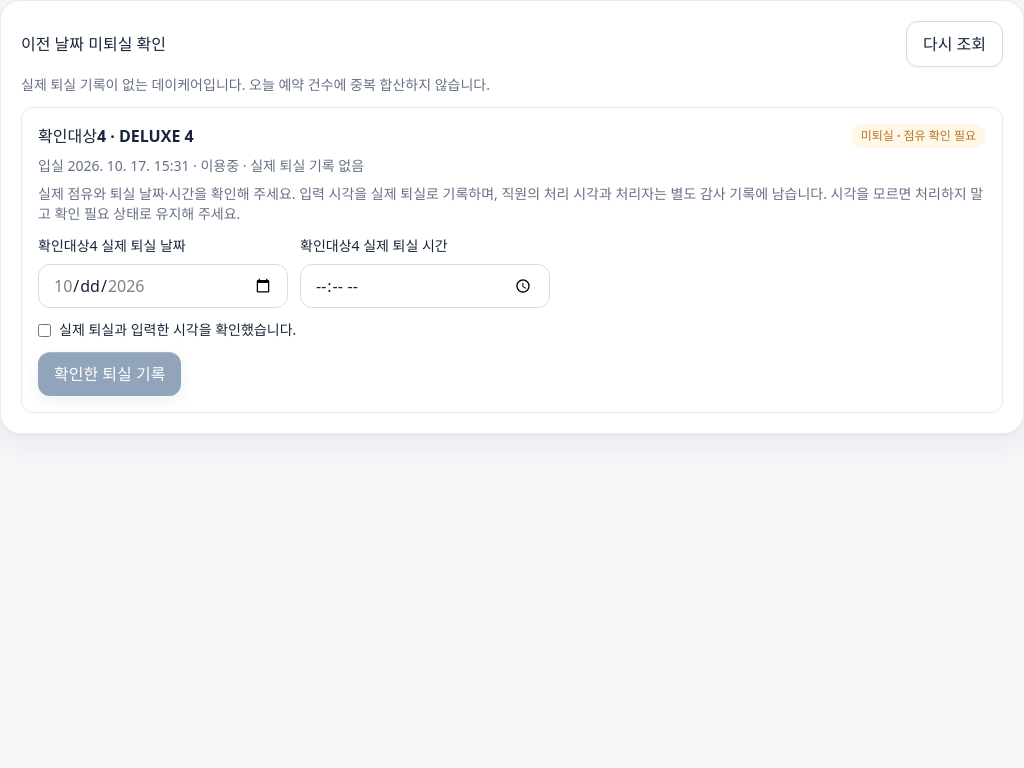
Scenario: editing either actual date or time requires a new explicit confirmation
Type "2026-10-18" into the date field labelled "확인대상4 실제 퇴실 날짜".
click(163, 286); type("2026-10-18")  # box 38,264 -> 288,308
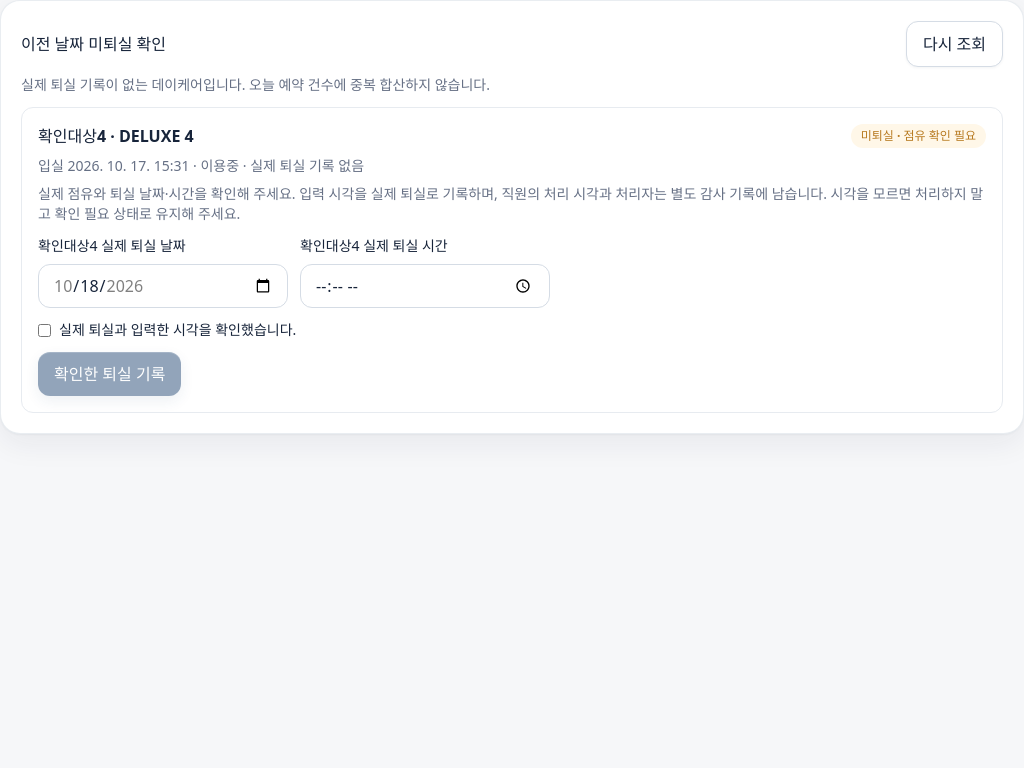
Type "17:00" into the time field labelled "확인대상4 실제 퇴실 시간".
click(425, 286); type("17:00")  # box 300,264 -> 550,308
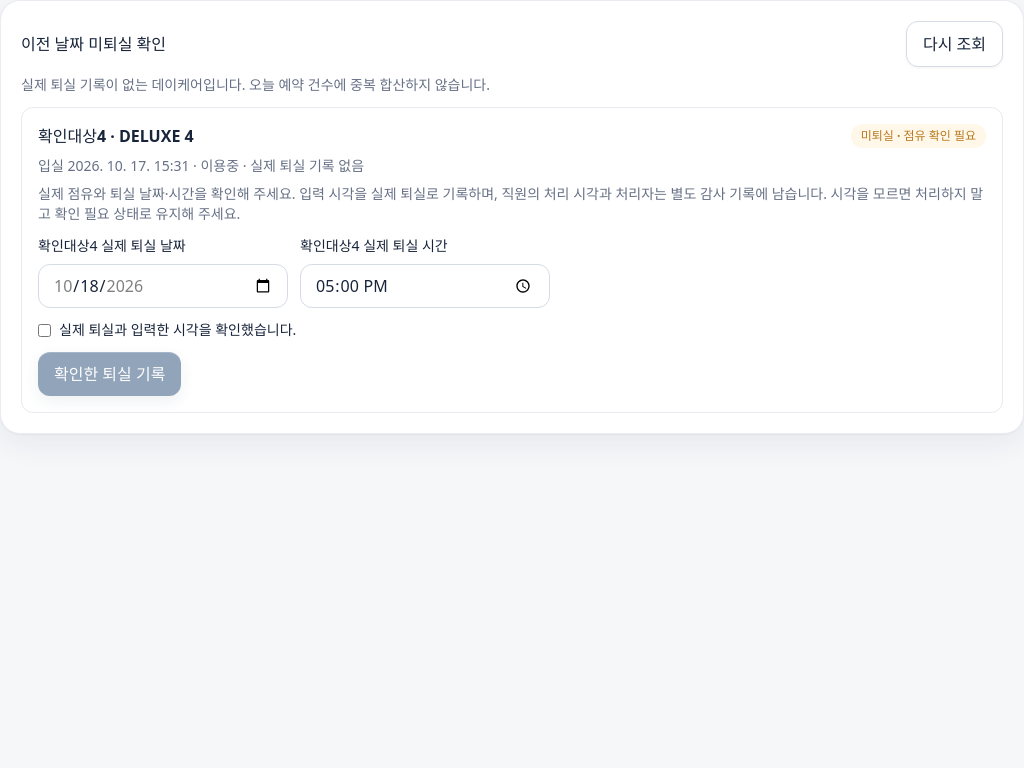
Click the checkbox.
click(44, 330)  # box 38,324 -> 51,337
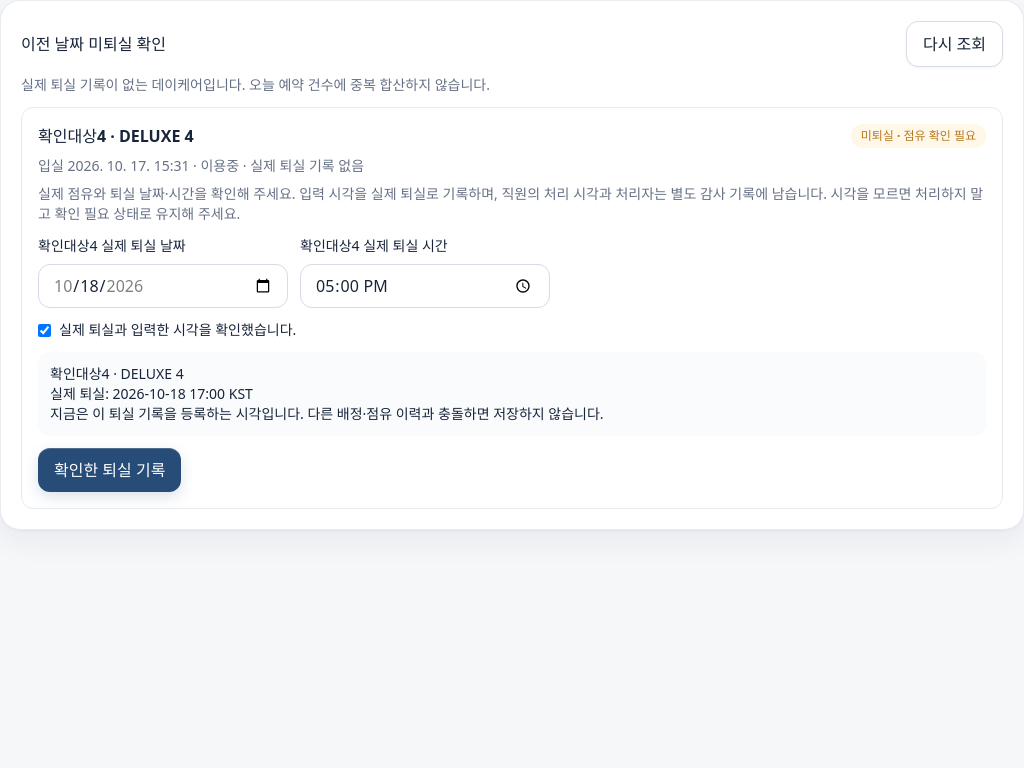
Now the button "확인한 퇴실 기록" is enabled, box 38,448 -> 181,492
Replace the text in the time field labelled "확인대상4 실제 퇴실 시간" with "17:30" at coordinates (425, 286), box 300,264 -> 550,308
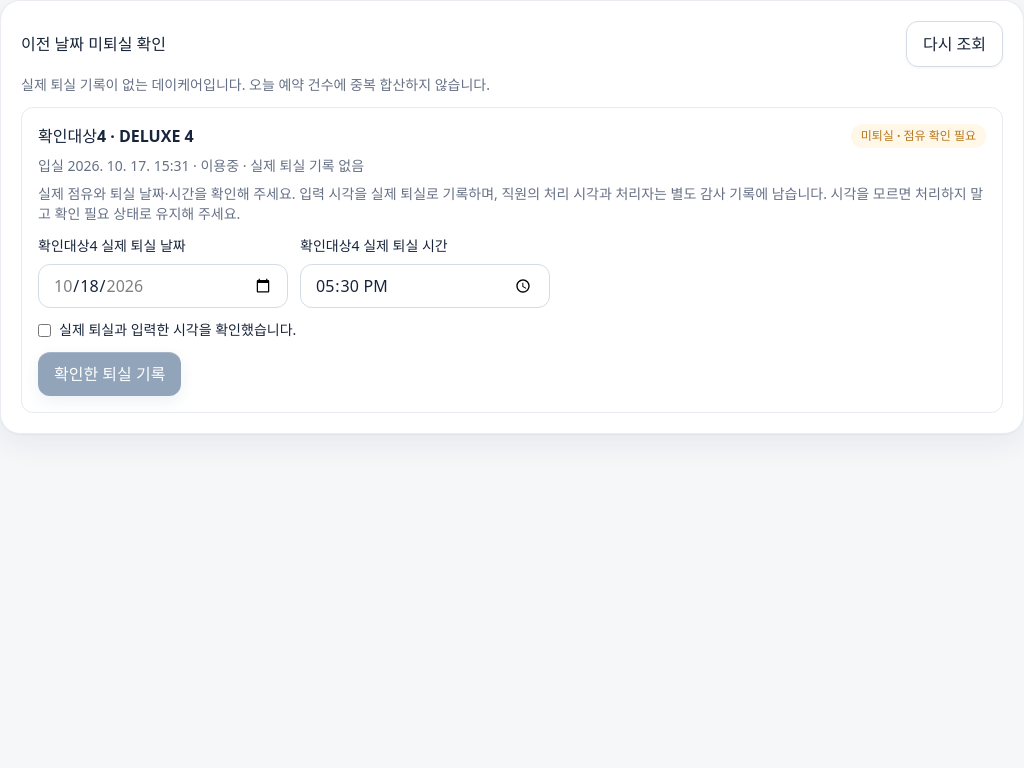
Now the checkbox is not checked, box 38,324 -> 51,337
Now the message is gone
Now the button "확인한 퇴실 기록" is disabled, box 38,352 -> 181,396
